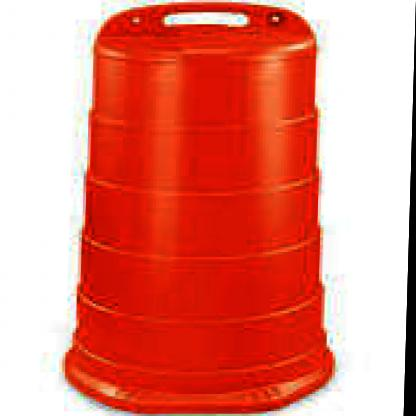obstacle: (58, 20, 339, 384)
